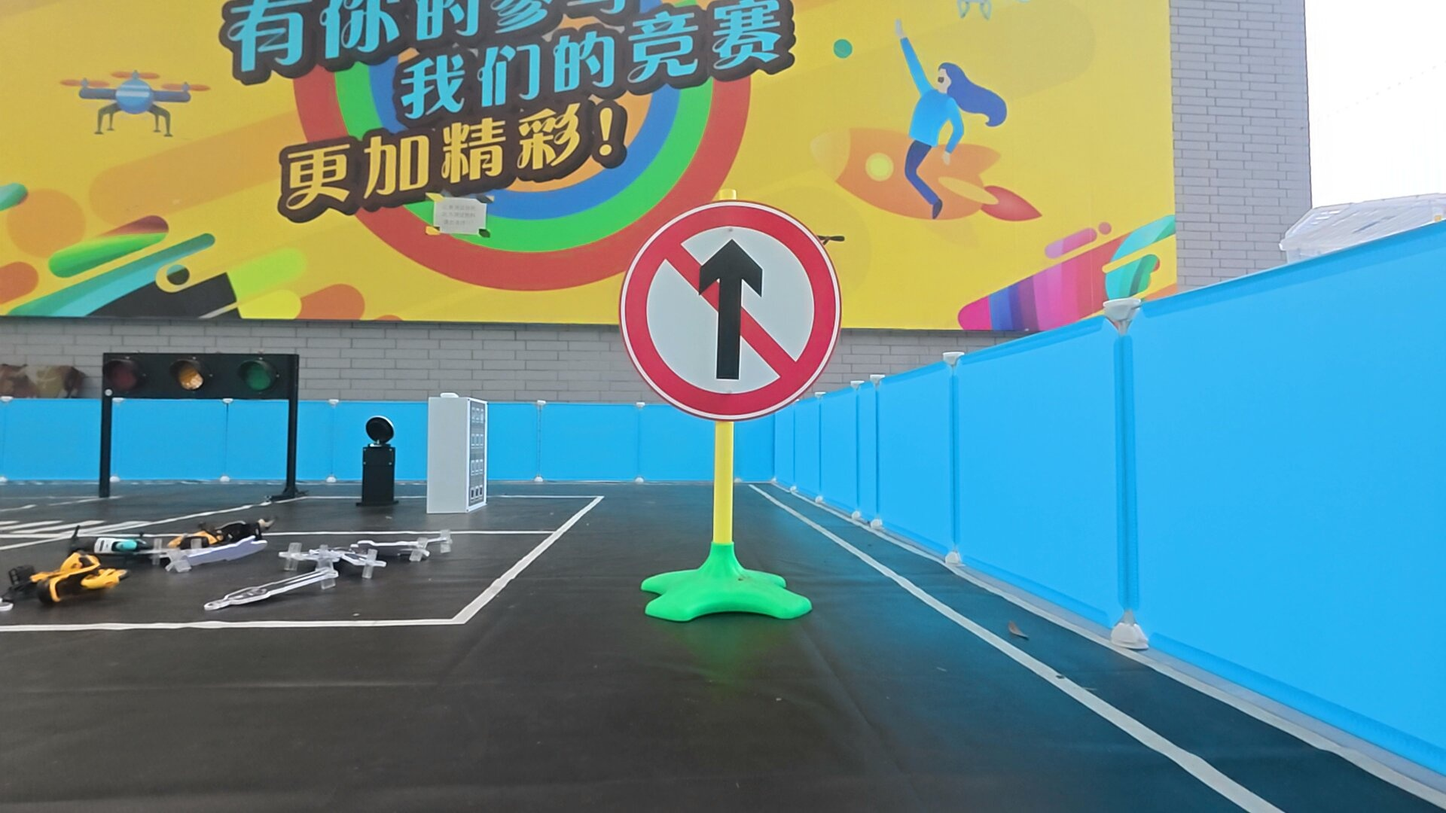obstacle: (614, 197, 846, 424)
